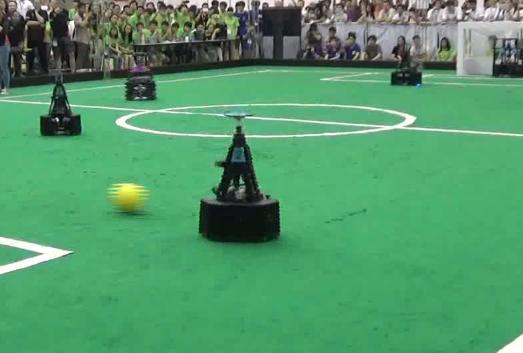robot: (196, 108, 278, 242), (37, 67, 85, 137), (119, 50, 161, 103), (386, 38, 426, 88)
